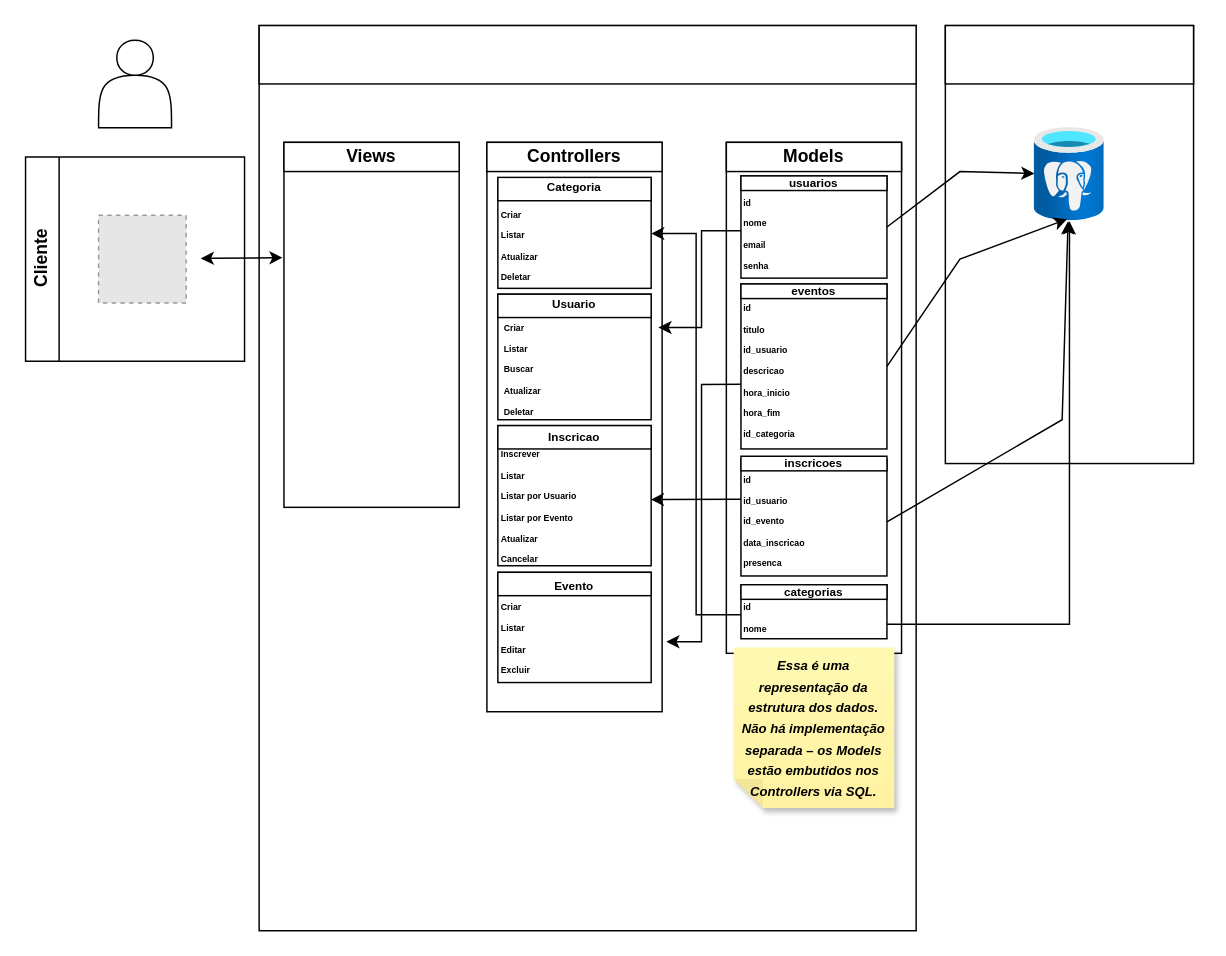
The diagram is 1226 pixels wide and 956 high, and some of its shapes have lost their labels. Grey dashed boxes stand in for pictures. The centre of each missing label's shape, as x and y in pixels:
"Servidor" belongs at point (587, 54).
"Servidor Banco de Dados" belongs at point (1069, 54).
